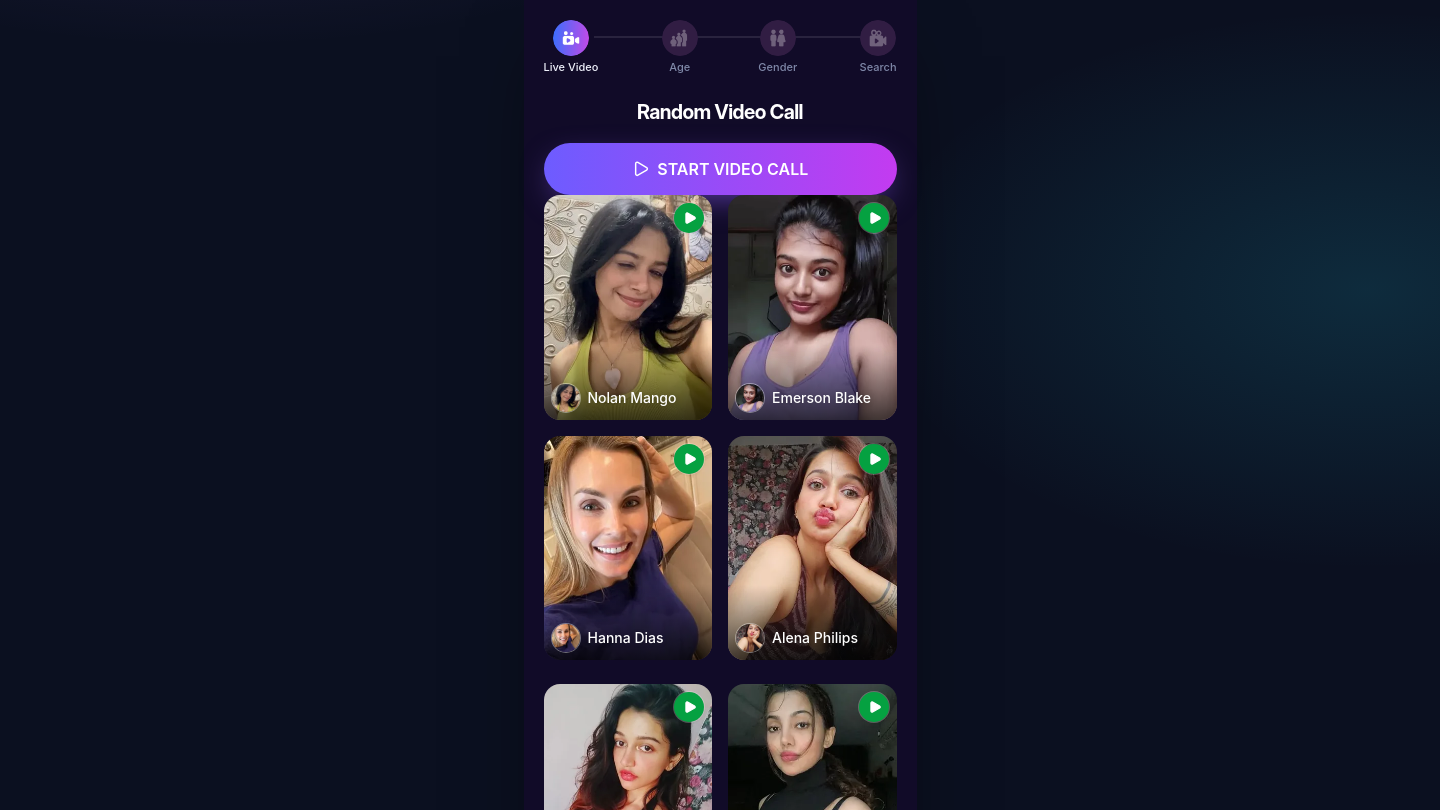
Test: clips landing › is the home screen and sends a grid card tap to the age step
The image size is (1440, 810).
Expected: the heading "Random Video Call" is shown, top-left (637, 100), bottom-right (803, 124)
Click the link "Nolan Mango".
click(628, 307)  # box top-left (544, 195), bottom-right (712, 420)
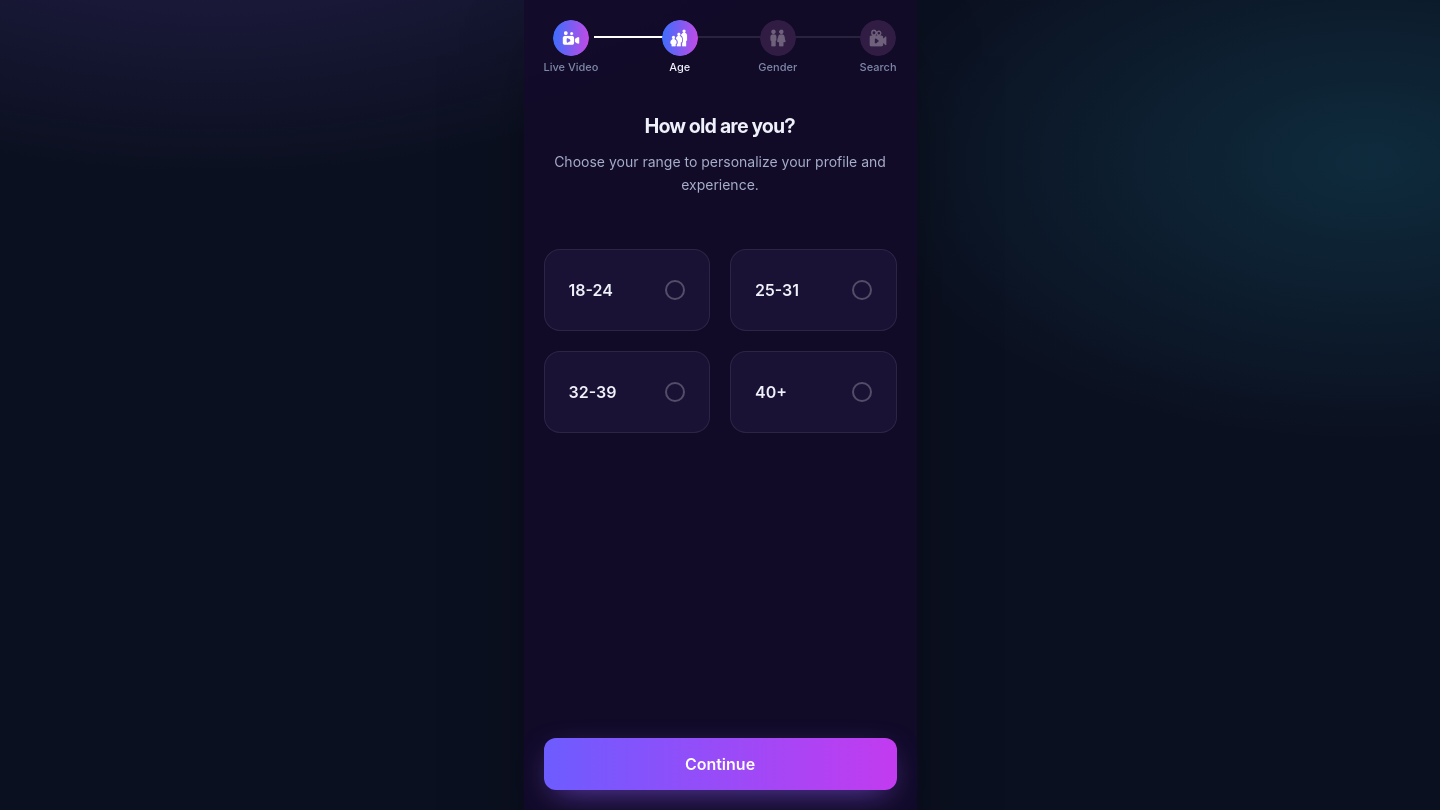
Result: the heading "How old are you?" is shown at top-left (645, 114), bottom-right (795, 138)
